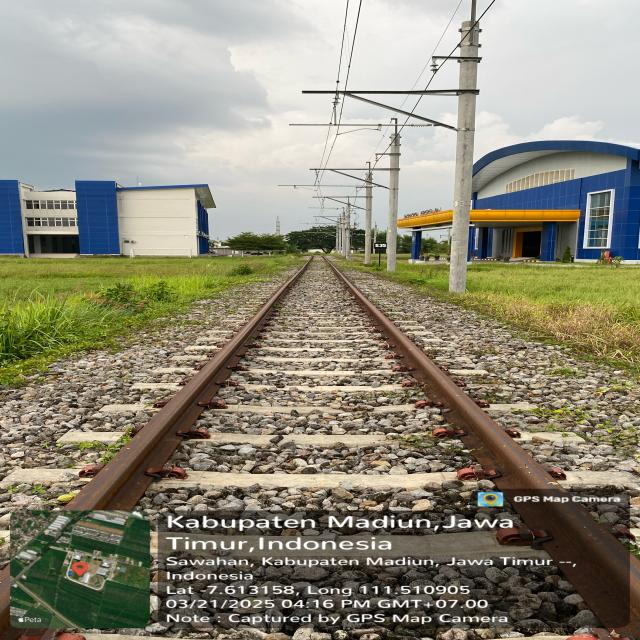rail-detection: (323, 256, 640, 627), (65, 255, 314, 510)
